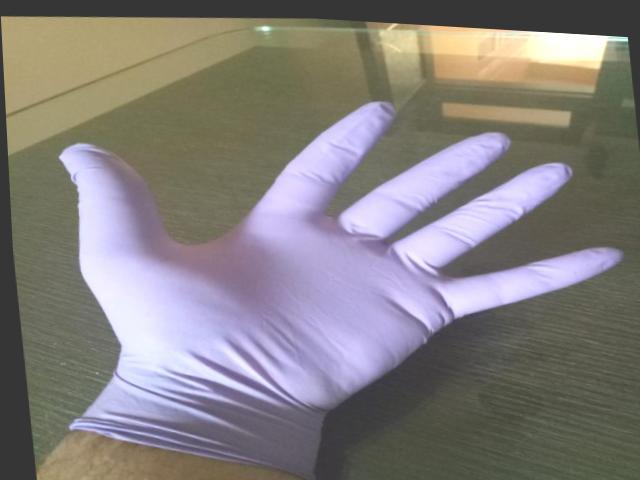Hand-in-Glove: (23, 34, 640, 480)
